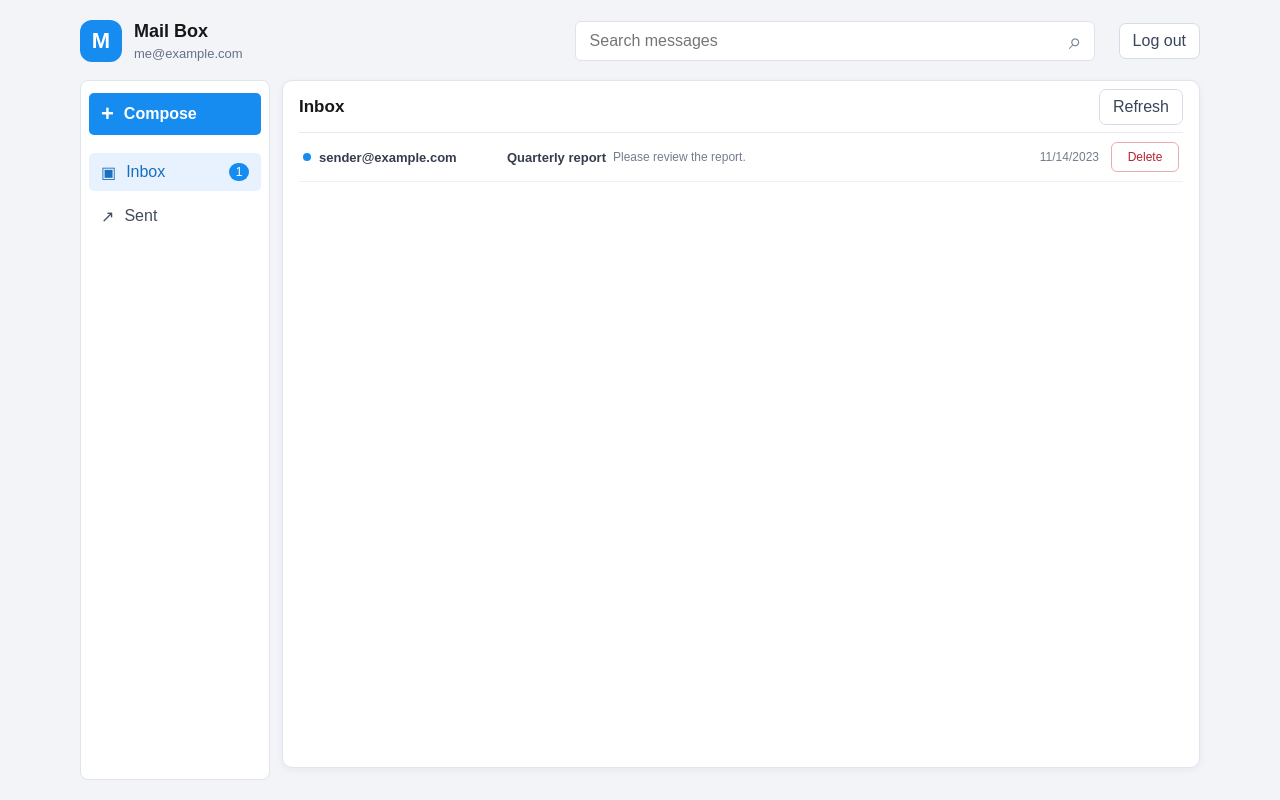
Test: Mailbox message reader › renders the selected message subject and sender
Click the button that starts with "sender@example.com".
click(701, 157)  # box [299,133,1103,181]
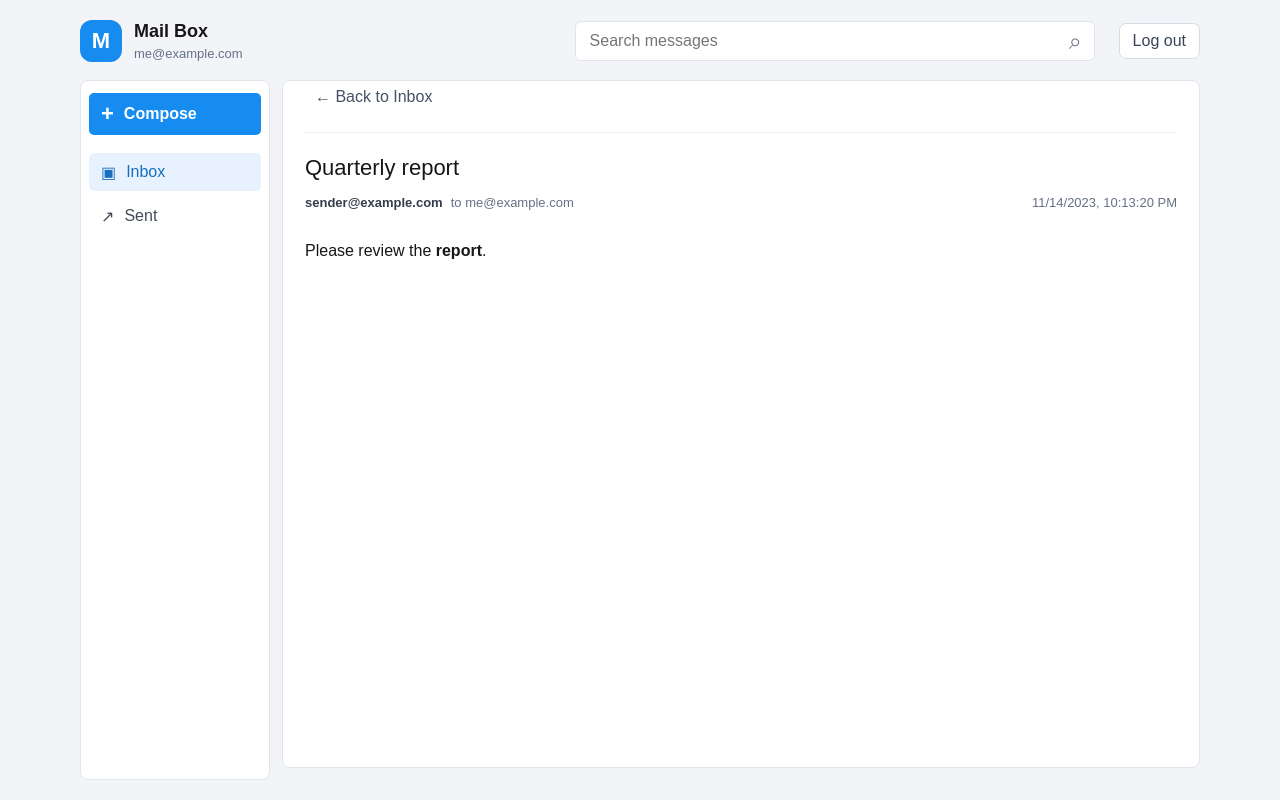
Expected: the text "sender@example.com" is shown, [305,195,443,210]
Result: the heading "Quarterly report" is shown at [305,155,459,180]
